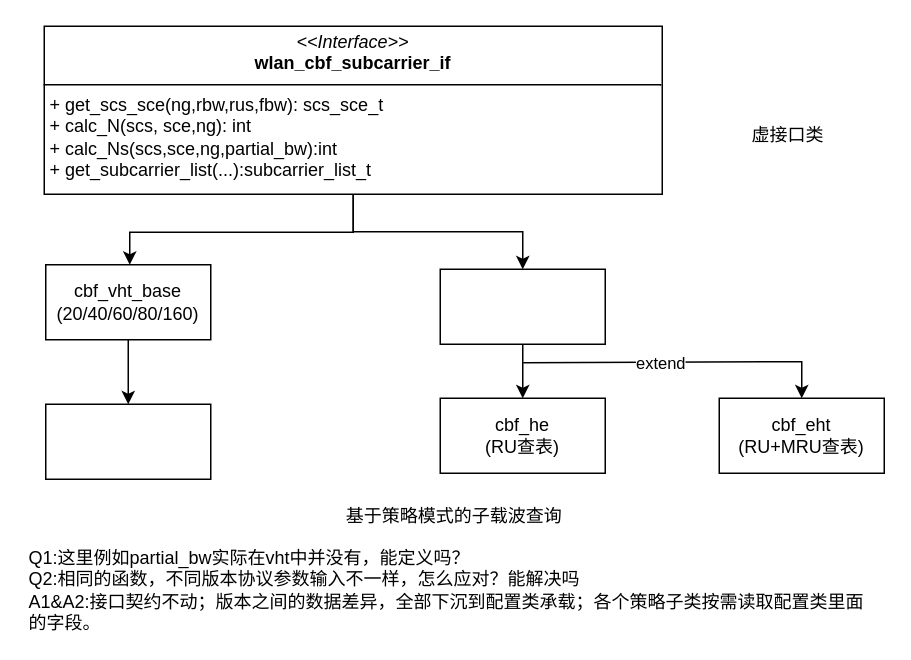
This 911x660 diagram has some shape labels left out. Each missing label, with the centre of its shape:
"cbf_ofdma_base (RU-based)" goes at pixel 522 306.
"cbf_vht (fbw查表)" goes at pixel 127 441.
